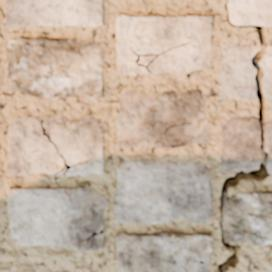brick: (8, 186, 105, 251), (115, 160, 211, 222), (7, 37, 103, 98), (116, 14, 212, 74), (116, 90, 210, 147), (116, 232, 212, 271), (44, 115, 103, 175), (7, 115, 62, 174), (6, 0, 102, 26), (226, 192, 271, 245), (229, 0, 271, 25)
broken_brick: (221, 116, 263, 171), (221, 44, 258, 98), (262, 45, 271, 98), (265, 119, 271, 171)
crack: (216, 1, 271, 271), (40, 115, 89, 176), (129, 40, 193, 73), (86, 228, 104, 242), (171, 144, 183, 148)
